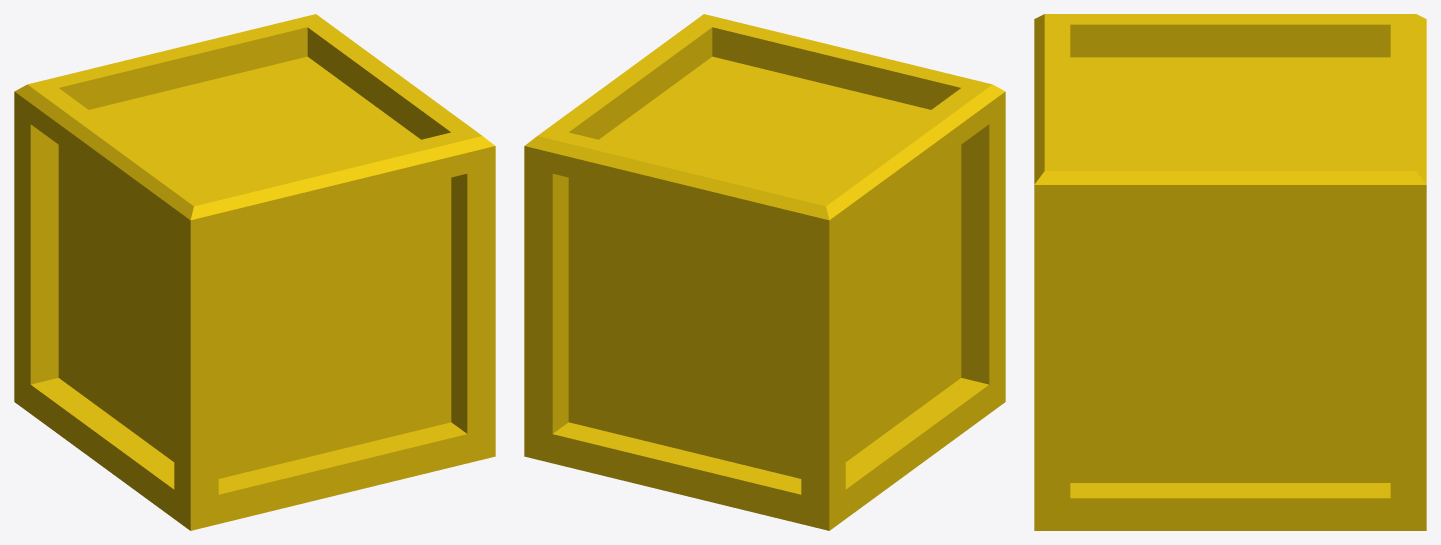
Rendered from crate.glb.
3 views of the same model, side by side, from view 1: azimuth 30°, elevation 25°; view 2: azimuth 150°, elevation 25°; view 3: azimuth 270°, elevation 25° (orthographic). The views are drawn at different scales.
Parts seen in each view (by area): view 1: Cube; view 2: Cube; view 3: Cube.
Boxes of the visible parts, x1,y1,x2,y2 form: Cube: (14, 14, 495, 530); Cube: (524, 14, 1005, 530); Cube: (1034, 14, 1426, 530).
Size of the model in its own units: 2 by 2 by 2.
Materials: 1 (1 with a texture image).
